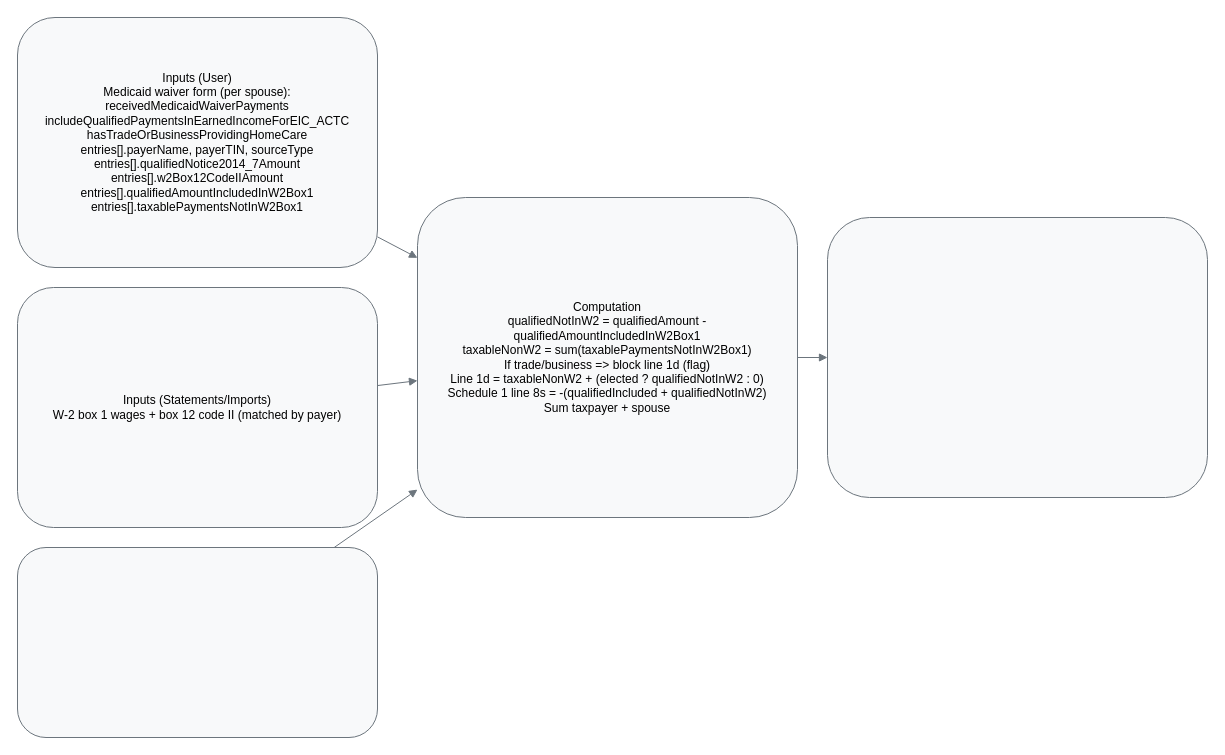
Image size: 1225x755. Some labels were removed from this diagram. The shapes that lost their labels are listed below. From the top down, each one's centre as x and y in pixels, then its label:
the point at 1017,357: Outputs Form 1040 line 1d Schedule 1 line 8s (negative)
the point at 197,642: Reference/Derived Inputs None
